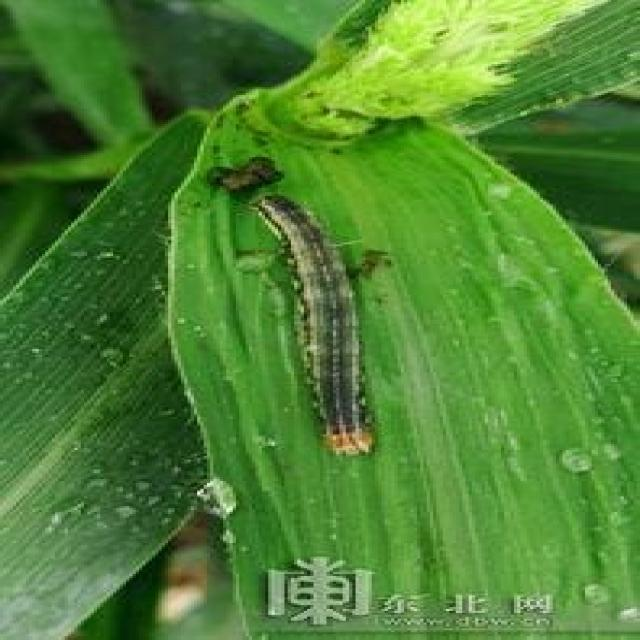army worm: (242, 194, 407, 467)
